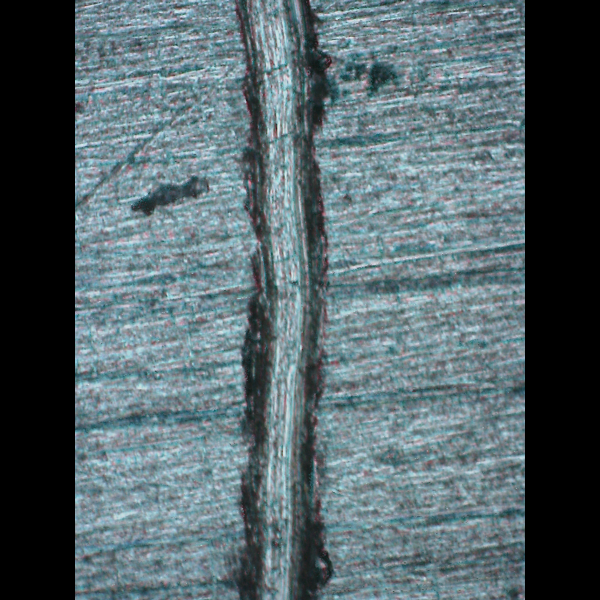d: (223, 0, 335, 595)
